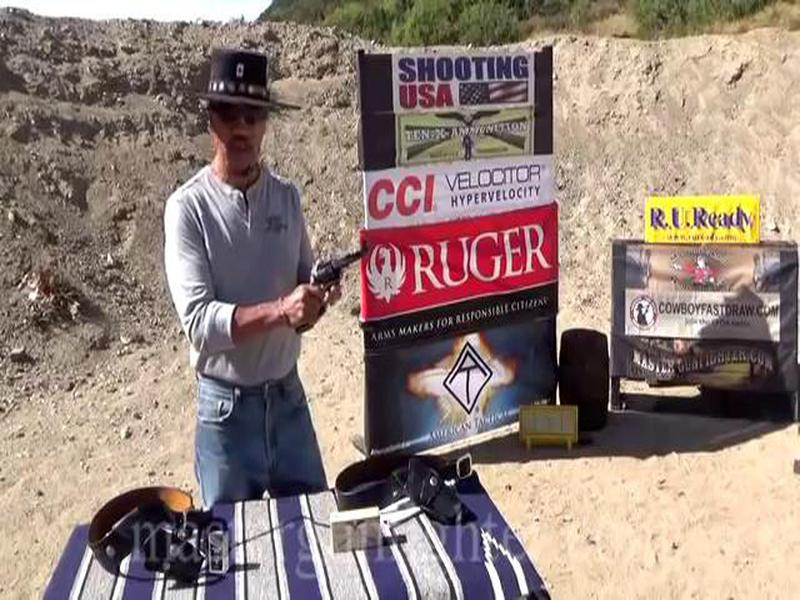Revolver: (298, 243, 377, 334)
